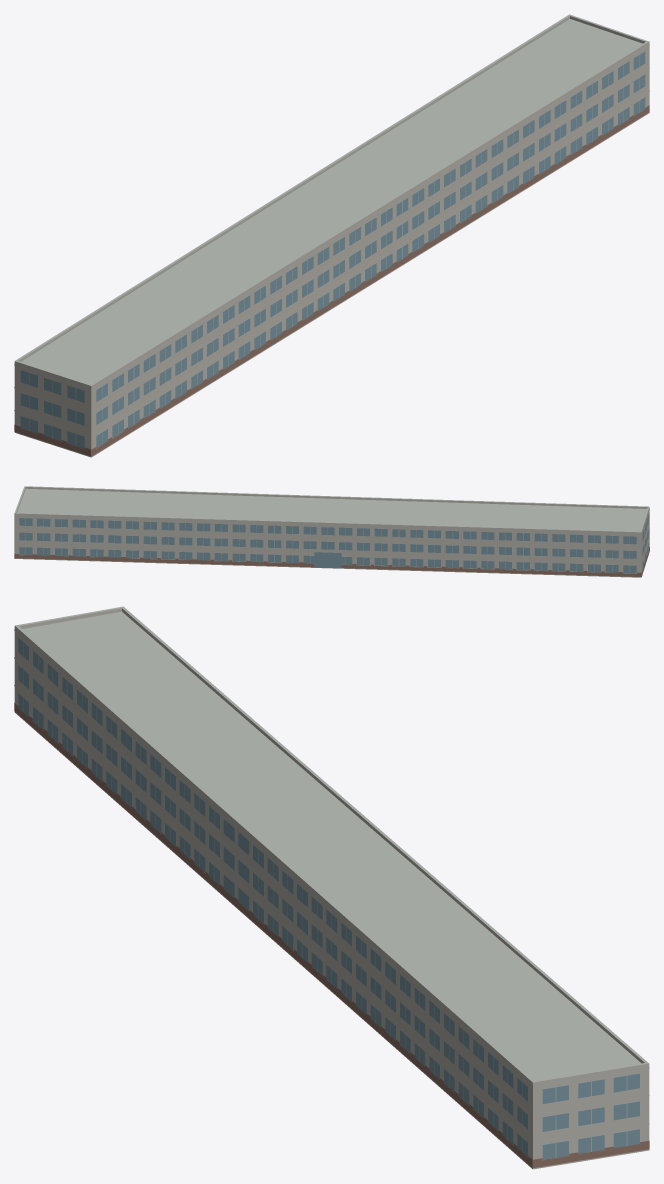
The model's file is public-6ee373f9-e930-468b-bb13-de7e27aebbac.glb.
3 views of the same model, one above another, from view 1: azimuth 30°, elevation 25°; view 2: azimuth 150°, elevation 25°; view 3: azimuth 270°, elevation 25° (orthographic). The views are drawn at different scales.
Visible parts, largest first — view 1: public-6ee373f9-e930-468b-bb13-de7e27aebbac; view 2: public-6ee373f9-e930-468b-bb13-de7e27aebbac; view 3: public-6ee373f9-e930-468b-bb13-de7e27aebbac.
Part boxes in pixels (x1,y1,x2,y2): public-6ee373f9-e930-468b-bb13-de7e27aebbac: (14, 14, 649, 457); public-6ee373f9-e930-468b-bb13-de7e27aebbac: (14, 486, 649, 577); public-6ee373f9-e930-468b-bb13-de7e27aebbac: (14, 606, 649, 1169).
Size of the model in its own units: 108 by 9.15 by 60.68.
